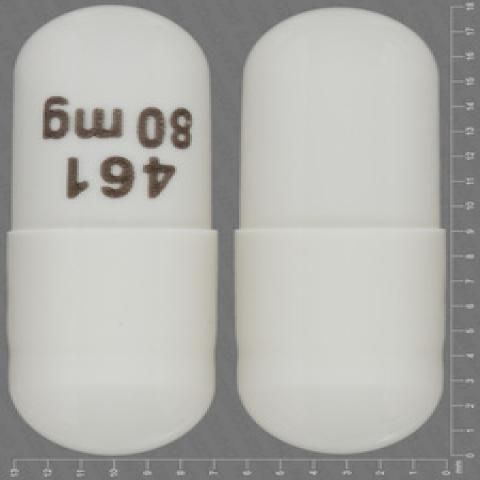Pill: (235, 10, 470, 468), (9, 3, 226, 467)
